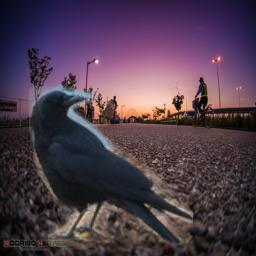Crow: (29, 83, 193, 250)
